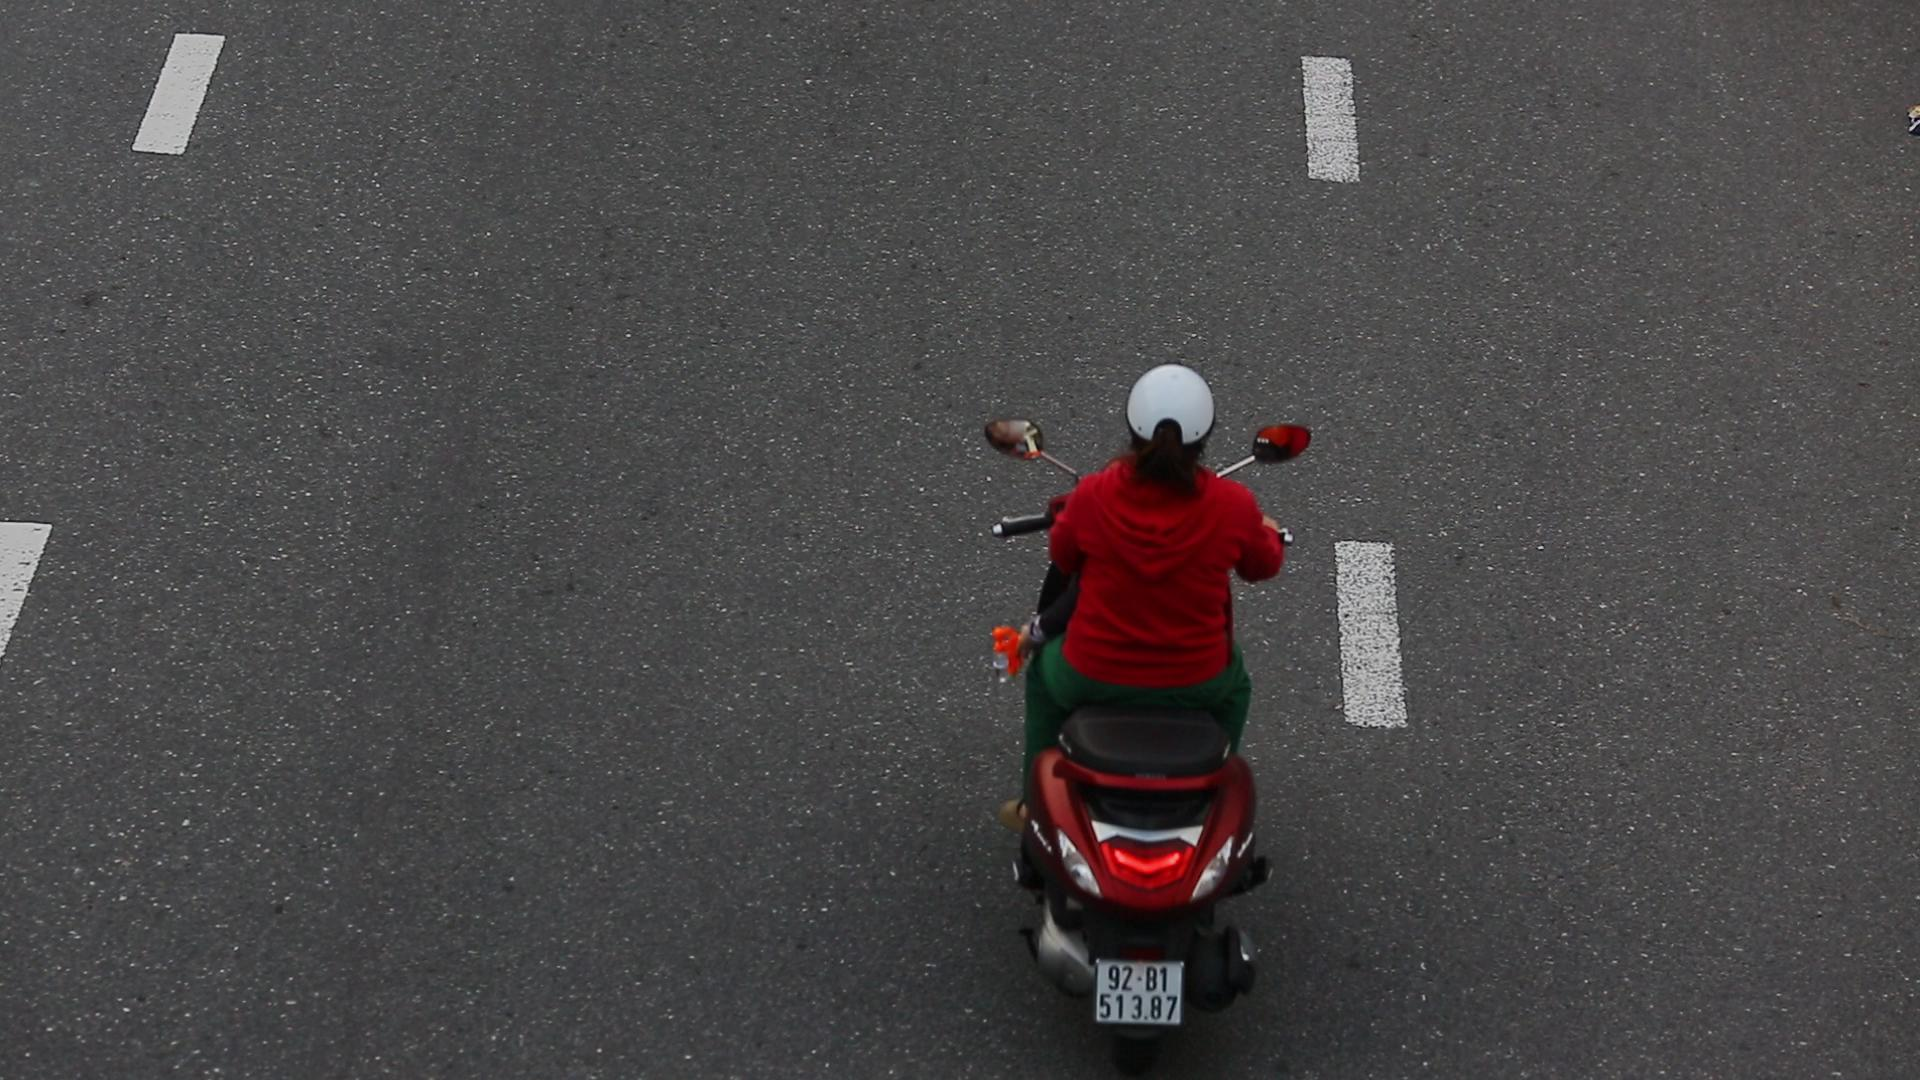motobike: (977, 347, 1335, 1067)
